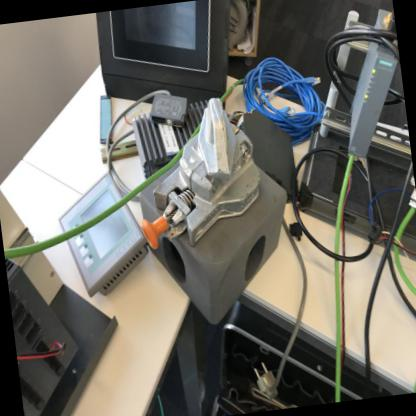CornerCasting: (132, 152, 308, 336)
Twistlock: (120, 94, 273, 259)
